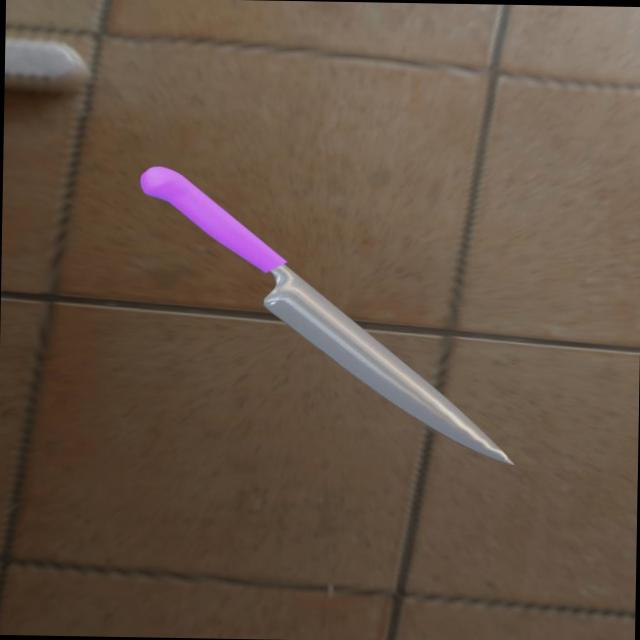knife: (138, 163, 288, 272)
